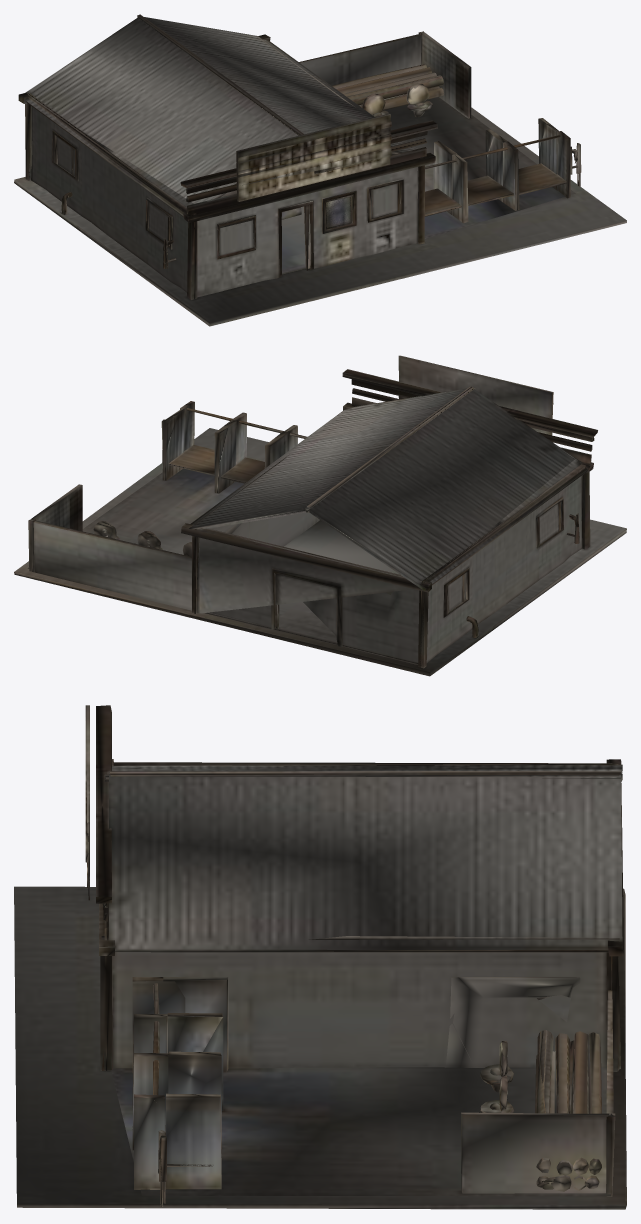
Rendered from wheen-whips.glb.
3 views of the same model, one above another, from view 1: azimuth 30°, elevation 25°; view 2: azimuth 150°, elevation 25°; view 3: azimuth 270°, elevation 25° (orthographic). The views are drawn at different scales.
Parts seen in each view (by area): view 1: mesh_node; view 2: mesh_node; view 3: mesh_node.
Boxes of the visible parts, bbox=[...] form: mesh_node: bbox=[14, 14, 626, 326]; mesh_node: bbox=[14, 355, 626, 676]; mesh_node: bbox=[14, 705, 626, 1209].
Bounding box in the file's own units: 12.28 × 4.1 × 10.05.
Materials: 1 (1 with a texture image).
